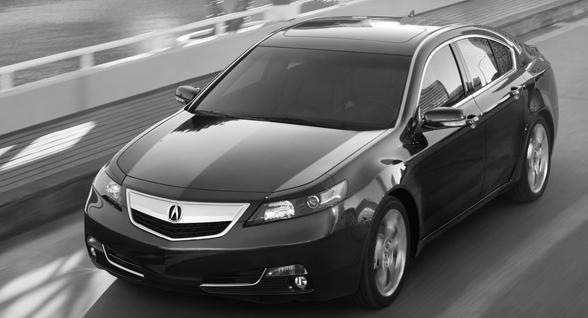car: (84, 13, 562, 311)
